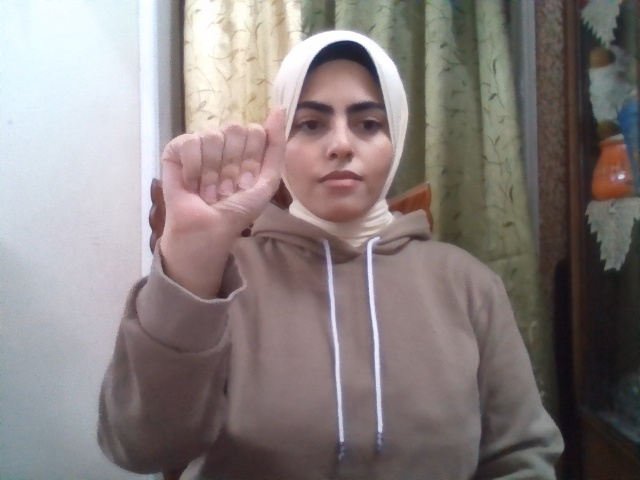A: (163, 105, 287, 233)
